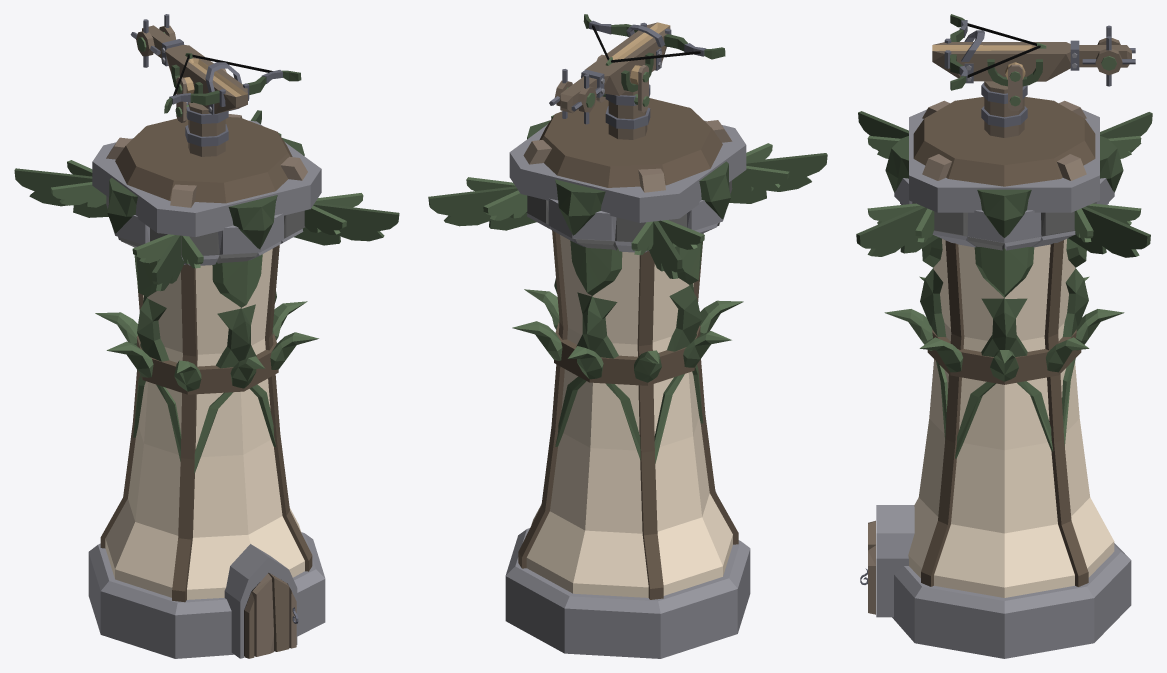
The model's file is _Ballista_tower_LVL_3.fbx.
3 renders of one model, left to right at view 1: azimuth 30°, elevation 25°; view 2: azimuth 150°, elevation 25°; view 3: azimuth 270°, elevation 25°, orthographic. The views are drawn at different scales.
Parts seen in each view (by area): view 1: Ballista_tower_LVL_3, Ballista_tower_LVL_3.001; view 2: Ballista_tower_LVL_3, Ballista_tower_LVL_3.001; view 3: Ballista_tower_LVL_3, Ballista_tower_LVL_3.001.
Part boxes in pixels (left/top/right/bottom): Ballista_tower_LVL_3: left=14, top=102, right=399, bottom=658; Ballista_tower_LVL_3.001: left=130, top=14, right=301, bottom=122; Ballista_tower_LVL_3: left=428, top=84, right=827, bottom=658; Ballista_tower_LVL_3.001: left=549, top=14, right=725, bottom=124; Ballista_tower_LVL_3: left=856, top=81, right=1152, bottom=658; Ballista_tower_LVL_3.001: left=932, top=14, right=1135, bottom=110.
Size of the model in its own units: 662 by 1413 by 662.
